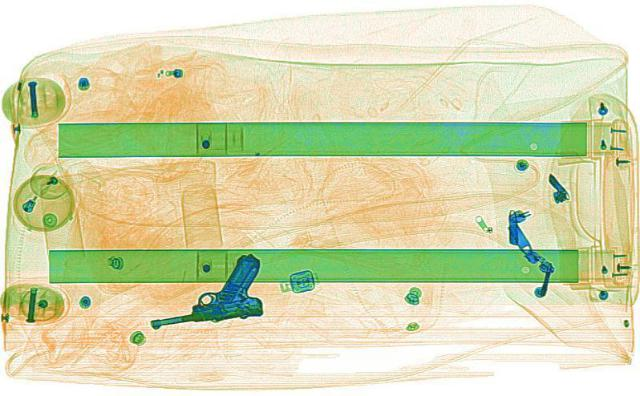Gun: (132, 251, 272, 324)
